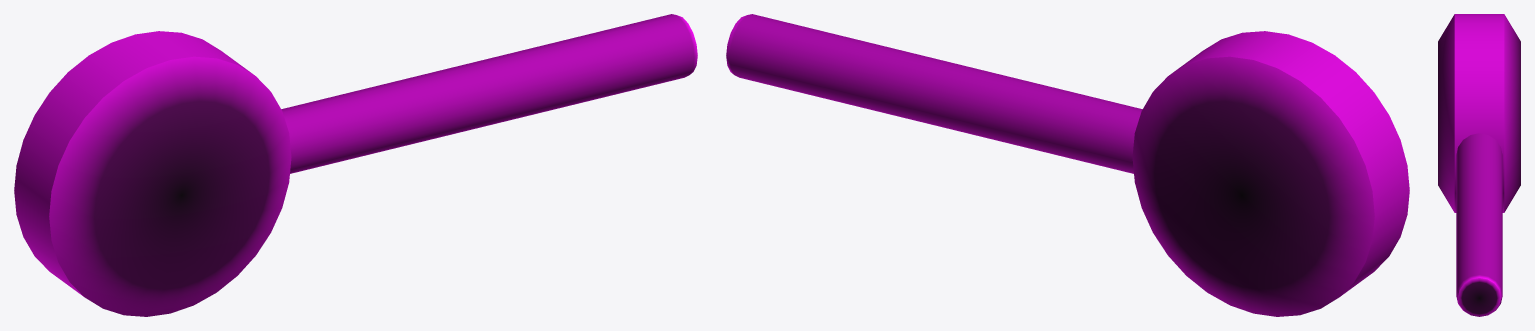
Rendered from ck_gearhandle.fbx.
3 renders of one model, left to right at view 1: azimuth 30°, elevation 25°; view 2: azimuth 150°, elevation 25°; view 3: azimuth 270°, elevation 25°, orthographic. The views are drawn at different scales.
Visible parts, largest first — view 1: ck_gearhandle; view 2: ck_gearhandle; view 3: ck_gearhandle.
Boxes of the visible parts, x1,y1,x2,y2 form: ck_gearhandle: (14, 14, 697, 316); ck_gearhandle: (726, 14, 1409, 316); ck_gearhandle: (1438, 14, 1520, 316).
Size of the model in its own units: 1.5 by 9.7 by 3.6.
